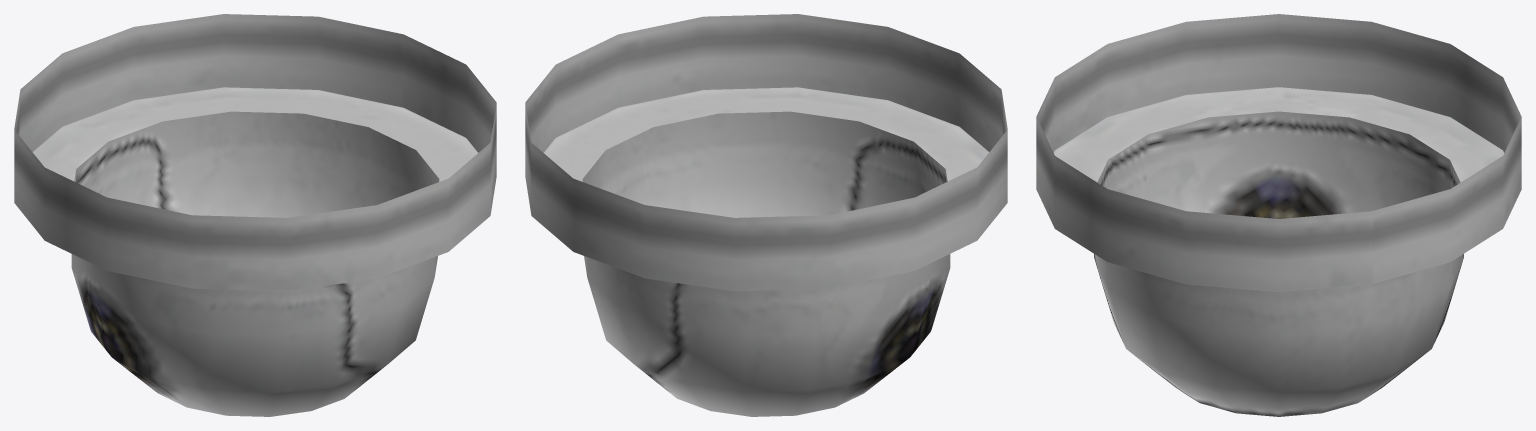
The model's file is HH_Camera.fbx.
3 renders of one model, left to right at view 1: azimuth 30°, elevation 25°; view 2: azimuth 150°, elevation 25°; view 3: azimuth 270°, elevation 25°, orthographic.
Visible parts, largest first — view 1: HH_Camera_LOD0; view 2: HH_Camera_LOD0; view 3: HH_Camera_LOD0.
Boxes of the visible parts, x1,y1,x2,y2 form: HH_Camera_LOD0: (14, 14, 496, 416); HH_Camera_LOD0: (525, 14, 1007, 416); HH_Camera_LOD0: (1036, 14, 1521, 416).
Size of what is drawn, in the model's own units: 24.06 by 14.8 by 24.06.
